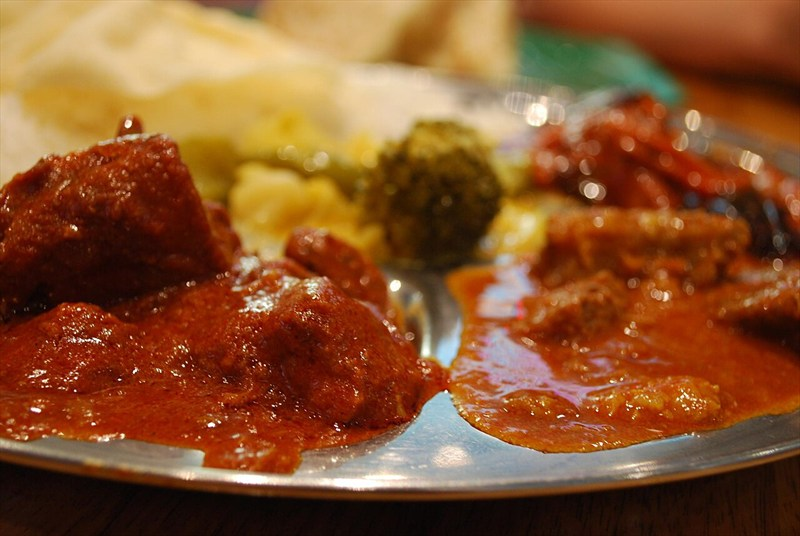Rendang: (112, 30, 663, 497)
